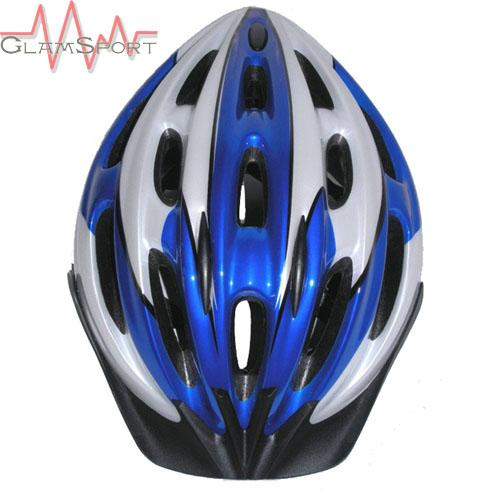helmet: (68, 33, 436, 468)
